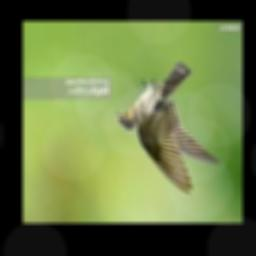Swallow: (114, 62, 220, 193)
